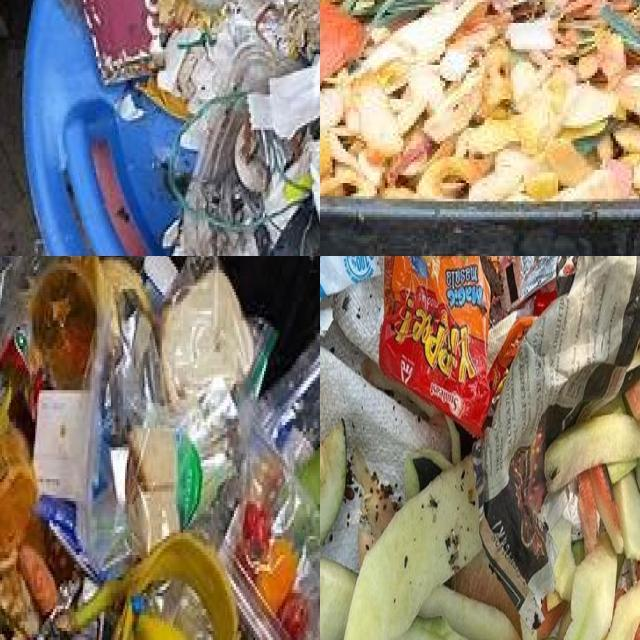Disposable: (220, 34, 304, 93), (71, 620, 99, 640)
Garbage: (0, 256, 320, 640), (320, 256, 640, 640), (320, 0, 640, 201), (85, 0, 320, 256)
Plastic_Bag: (77, 261, 165, 571), (221, 450, 320, 640), (256, 335, 320, 469)
Plastic_Container: (0, 426, 36, 555)
Plastic_wraper: (381, 256, 564, 434), (35, 495, 105, 584), (0, 374, 12, 435)
